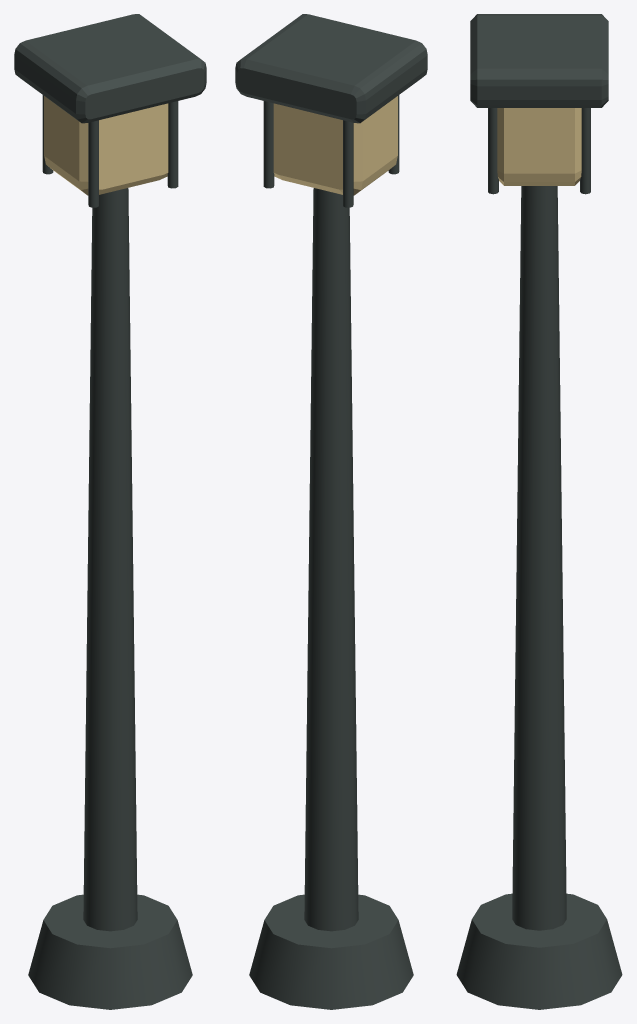
File: lamp.glb
3 renders of one model, left to right at view 1: azimuth 30°, elevation 25°; view 2: azimuth 150°, elevation 25°; view 3: azimuth 270°, elevation 25°, orthographic.
Parts seen in each view (by area): view 1: lamp; view 2: lamp; view 3: lamp.
Part boxes in pixels (bbox=[...]): lamp: bbox=[14, 14, 206, 1009]; lamp: bbox=[235, 14, 427, 1009]; lamp: bbox=[456, 14, 622, 1009].
Bounding box in the file's own units: 0.54 × 3.35 × 0.54.
